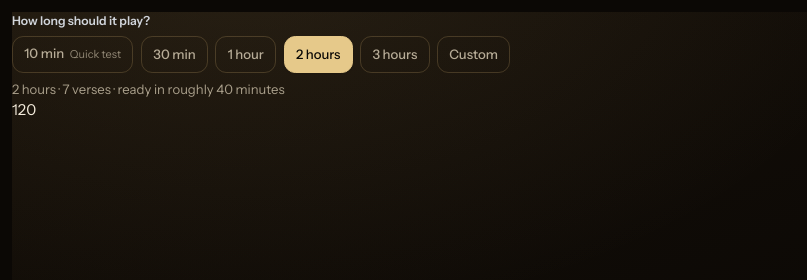
Test: AmbientLengthField › a preset is one tap, and the readout follows it
The width and height of the screenshot is (807, 280).
Click the button "1 hour". click: (246, 54)
box: [215,36,276,73]
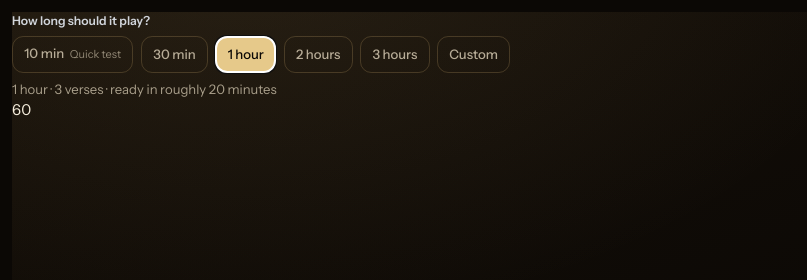
expect the text with test id "value" reads "60": met, box [12,100,31,119]
expect the text "1 hour · 3 verses · ready in roughly 20 minutes" is shown: met, box [12,81,277,97]
